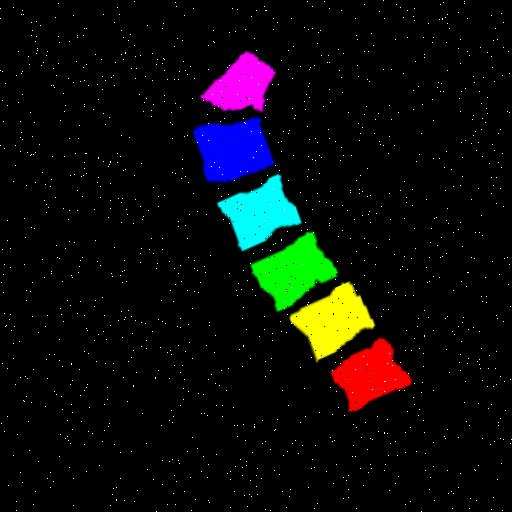L1: (331, 342, 411, 415)
L2: (290, 285, 374, 363)
L3: (251, 235, 336, 312)
L4: (218, 178, 301, 251)
L5: (193, 119, 274, 183)
S1: (200, 54, 274, 114)
